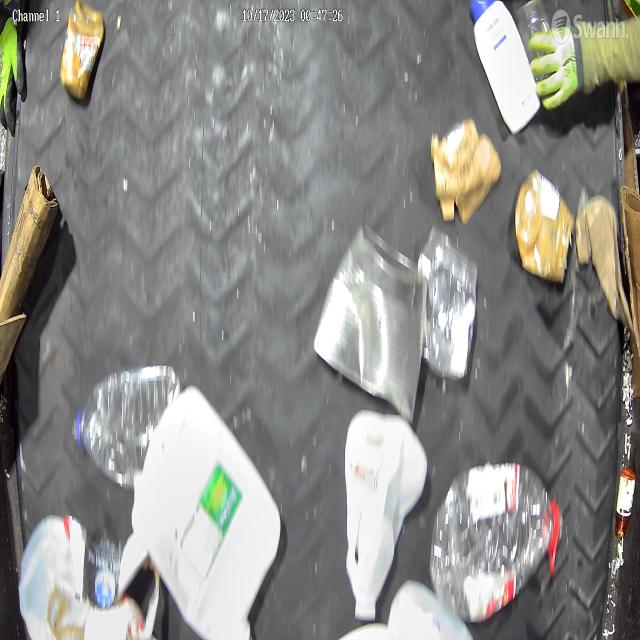can: (313, 225, 427, 421)
milk_jug: (133, 385, 285, 638), (343, 409, 426, 621), (388, 582, 473, 640), (338, 622, 388, 640)
non_white_jug: (21, 513, 84, 638)
plastic_bottle: (433, 460, 561, 620), (75, 364, 180, 490)
